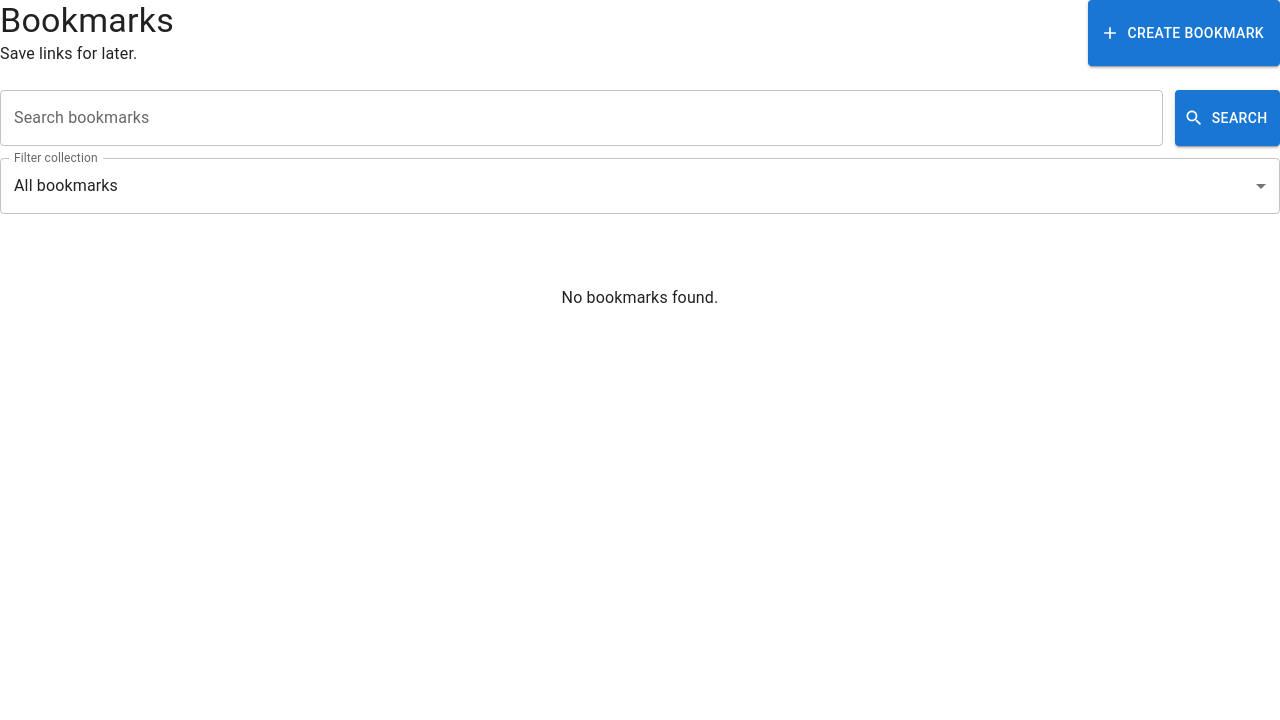
Test: keeps creation open and reports a failed bookmark create
Click the button "Create bookmark": x=1184, y=33 [1088,0,1279,66]
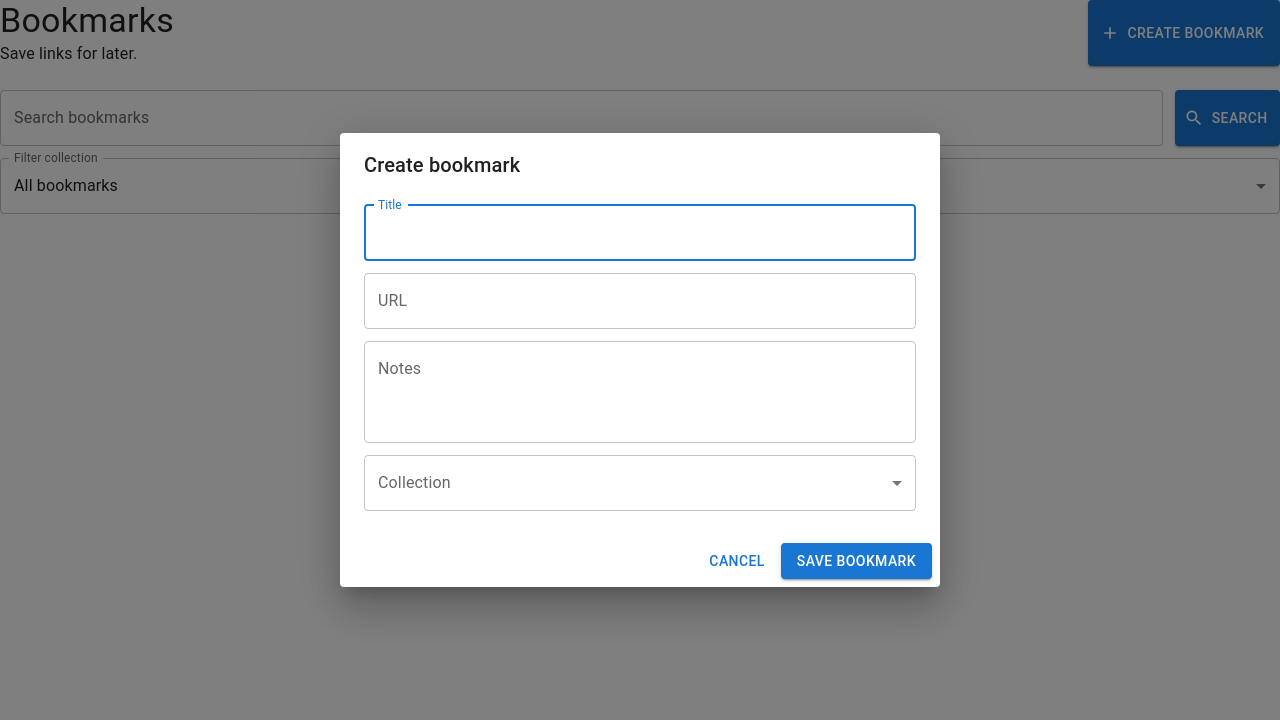
In the field labelled "Title": x=640, y=233 [364,205,916,261], type "MUI"
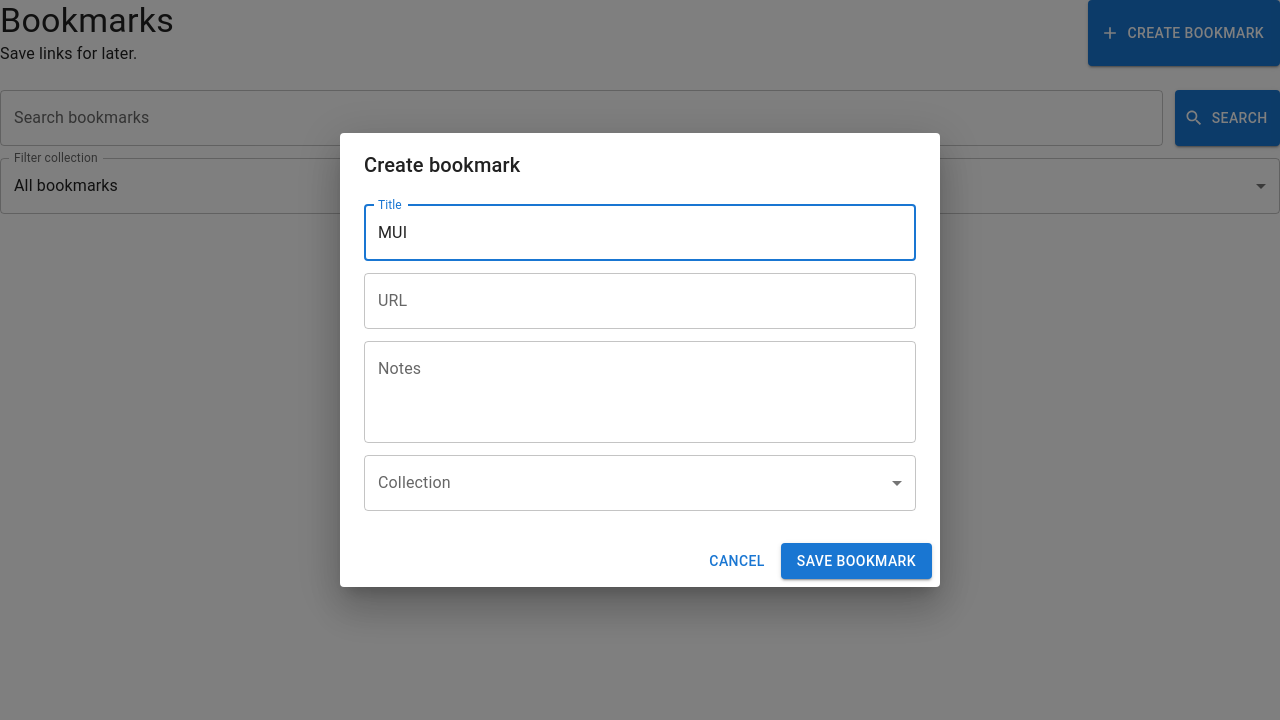
In the field labelled "URL": x=640, y=301 [364,273,916,329], type "https://mui.com"
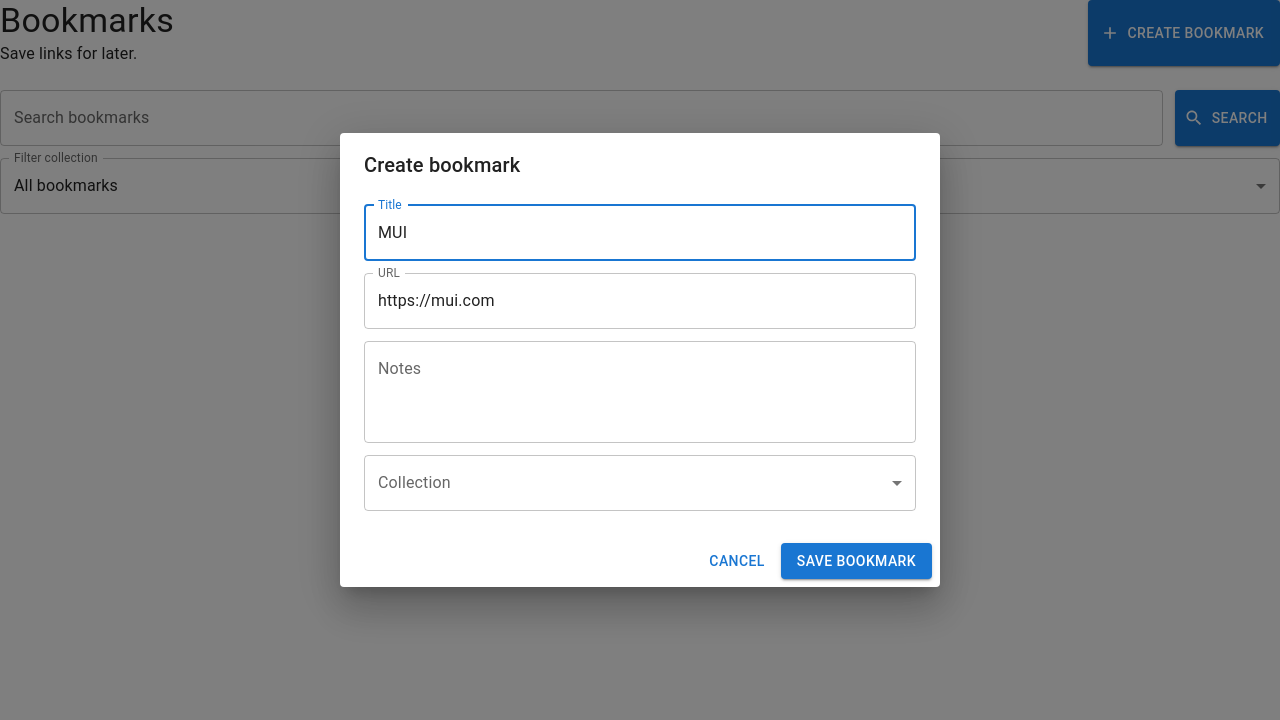
Click the button "Save bookmark": x=856, y=561 [781,543,932,579]
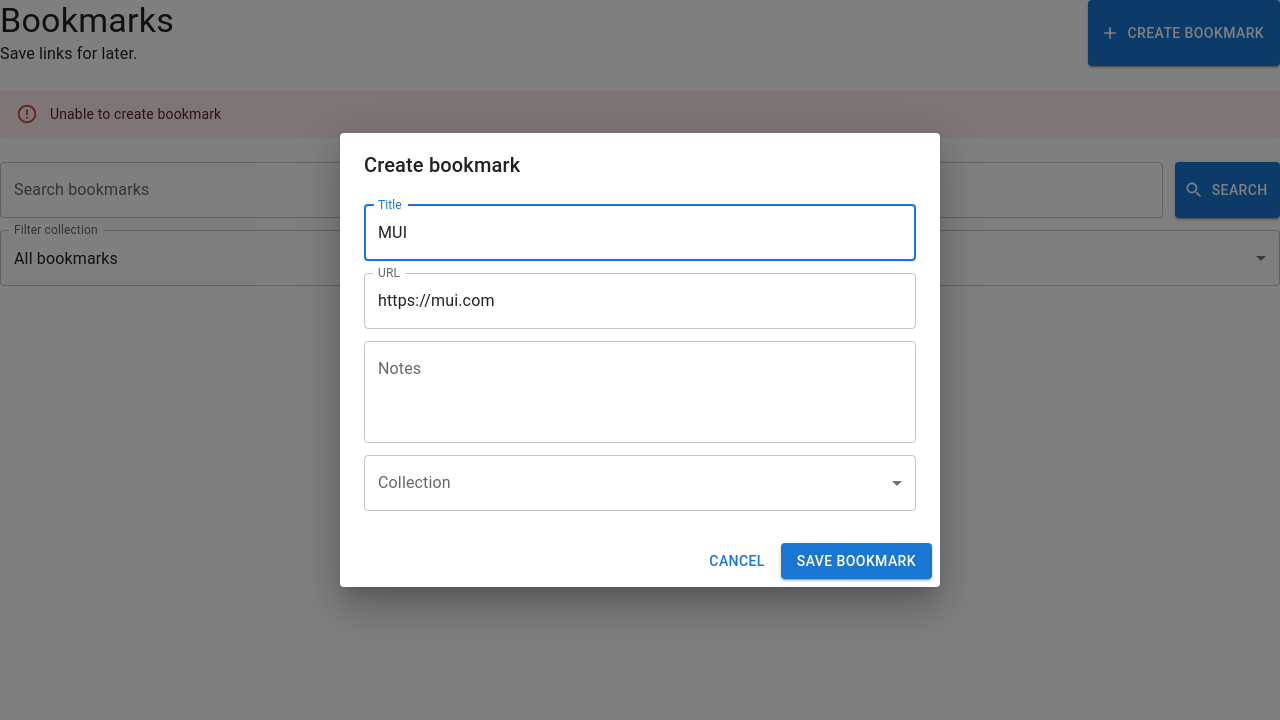
Expected: the dialog "Create bookmark" is shown, [340,133,940,587]
Expected: the text "Unable to create bookmark" is shown, [50,106,221,122]
